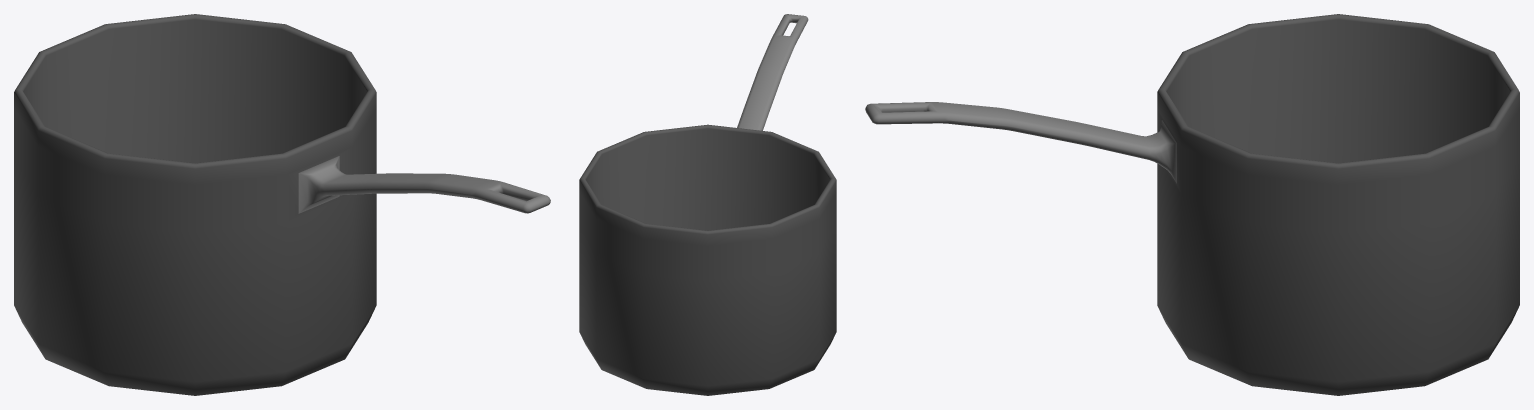
Rendered from Medium Potpan.fbx.
3 renders of one model, left to right at view 1: azimuth 30°, elevation 25°; view 2: azimuth 150°, elevation 25°; view 3: azimuth 270°, elevation 25°, orthographic. The views are drawn at different scales.
Parts seen in each view (by area): view 1: Medium Saucepan; view 2: Medium Saucepan; view 3: Medium Saucepan.
Part boxes in pixels (box(x1,y1,x2,y2)): Medium Saucepan: box(14, 14, 550, 395); Medium Saucepan: box(579, 14, 836, 395); Medium Saucepan: box(865, 14, 1519, 395).
Bounding box in the file's own units: 29.52 × 24.61 × 53.3.
